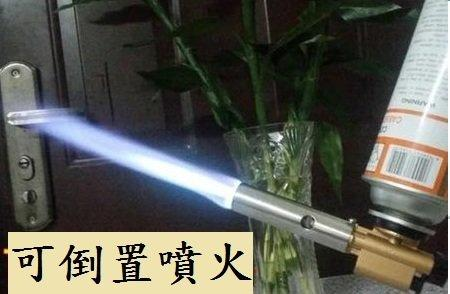gastorch: (235, 4, 448, 290)
